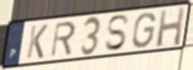3: (79, 14, 103, 58)
G: (131, 11, 158, 50)
H: (155, 5, 187, 49)
K: (25, 23, 50, 60)
R: (49, 20, 77, 59)
S: (104, 13, 132, 53)
